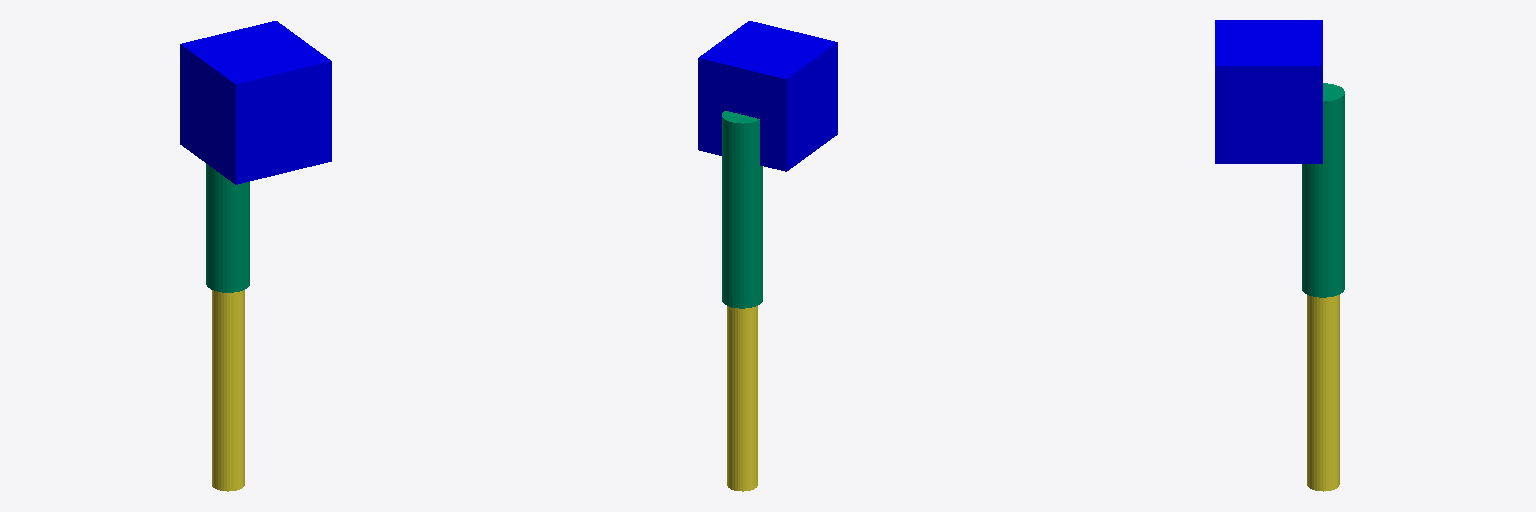
robot.urdf — simple_leg:
<?xml version="1.0"?>
<robot name="simple_leg">
  <link name="base_link">
    <visual><geometry><box size="0.1 0.1 0.1"/></geometry><material name="blue"><color rgba="0 0 1 1"/></material></visual>
  </link>

  <link name="coxa">
    <visual><geometry><cylinder length="0.05" radius="0.02"/></geometry>
    <origin rpy="1.5708 0 0" xyz="0 0.025 0"/></visual>
  </link>

  <link name="femur">
    <visual><geometry><cylinder length="0.2" radius="0.02"/></geometry>
    <origin rpy="0 0 0" xyz="0 0 -0.1"/></visual>
  </link>

  <link name="tibia">
    <visual><geometry><cylinder length="0.2" radius="0.015"/></geometry>
    <origin rpy="0 0 0" xyz="0 0 -0.1"/></visual>
  </link>

  <joint name="shoulder_roll" type="revolute">
    <parent link="base_link"/><child link="coxa"/>
    <origin xyz="0 0 0" rpy="0 0 0"/>
    <axis xyz="1 0 0"/> <limit effort="10" velocity="10" lower="-1.5" upper="1.5"/>
  </joint>

  <joint name="shoulder_pitch" type="revolute">
    <parent link="coxa"/><child link="femur"/>
    <origin xyz="0 0.05 0" rpy="0 0 0"/>
    <axis xyz="0 1 0"/> <limit effort="10" velocity="10" lower="-1.5" upper="1.5"/>
  </joint>

  <joint name="knee_pitch" type="revolute">
    <parent link="femur"/><child link="tibia"/>
    <origin xyz="0 0 -0.2" rpy="0 0 0"/>
    <axis xyz="0 1 0"/> <limit effort="10" velocity="10" lower="-3.0" upper="3.0"/>
  </joint>
</robot>

--- Render facts (derived) ---
Views: 3 orthographic renders of the robot side by side, from view 1: azimuth 30°, elevation 25°; view 2: azimuth 150°, elevation 25°; view 3: azimuth 270°, elevation 25°.
Robot: simple_leg — 4 links, 3 joints (3 revolute); root link base_link; default pose: all joints at 0.
Visible links, largest first — view 1: base_link, tibia, femur; view 2: base_link, femur, tibia; view 3: base_link, femur, tibia.
Link boxes in pixels (x1,y1,x2,y2): base_link: (180, 21, 331, 184); tibia: (212, 290, 244, 491); femur: (206, 164, 249, 292); base_link: (698, 21, 837, 171); femur: (722, 111, 762, 308); tibia: (727, 306, 757, 491); base_link: (1215, 20, 1322, 163); femur: (1302, 83, 1344, 297); tibia: (1307, 295, 1339, 491).
Size in the robot's own frame: 0.1 by 0.12 by 0.45 metres.
Geometry: primitives only (box / cylinder / sphere), no mesh files.
